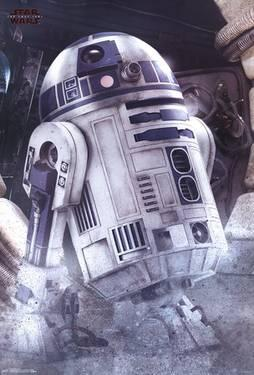r2d2: (19, 29, 231, 360)
